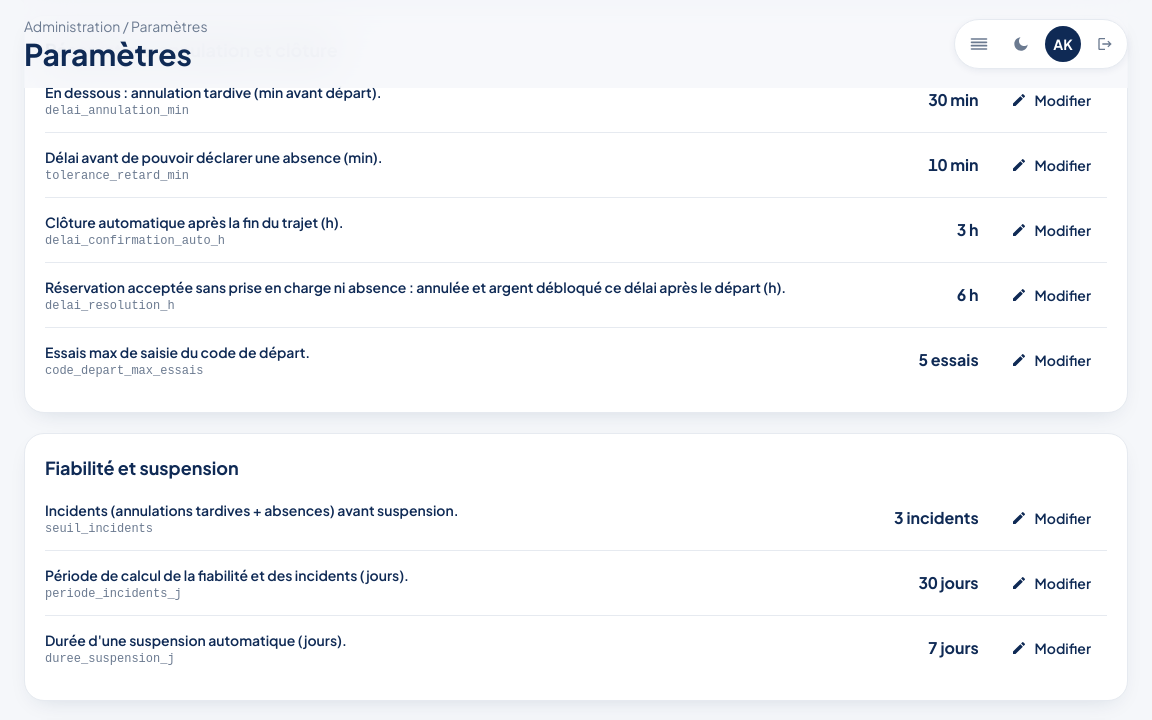
Test: paramètres › exige un entier pour un paramètre entier
(page scrolled)
Click the button "Modifier" in the row of "Essais max de saisie du code de départ.".
click(1051, 360)  # box x1=995 y1=340 x2=1107 y2=380
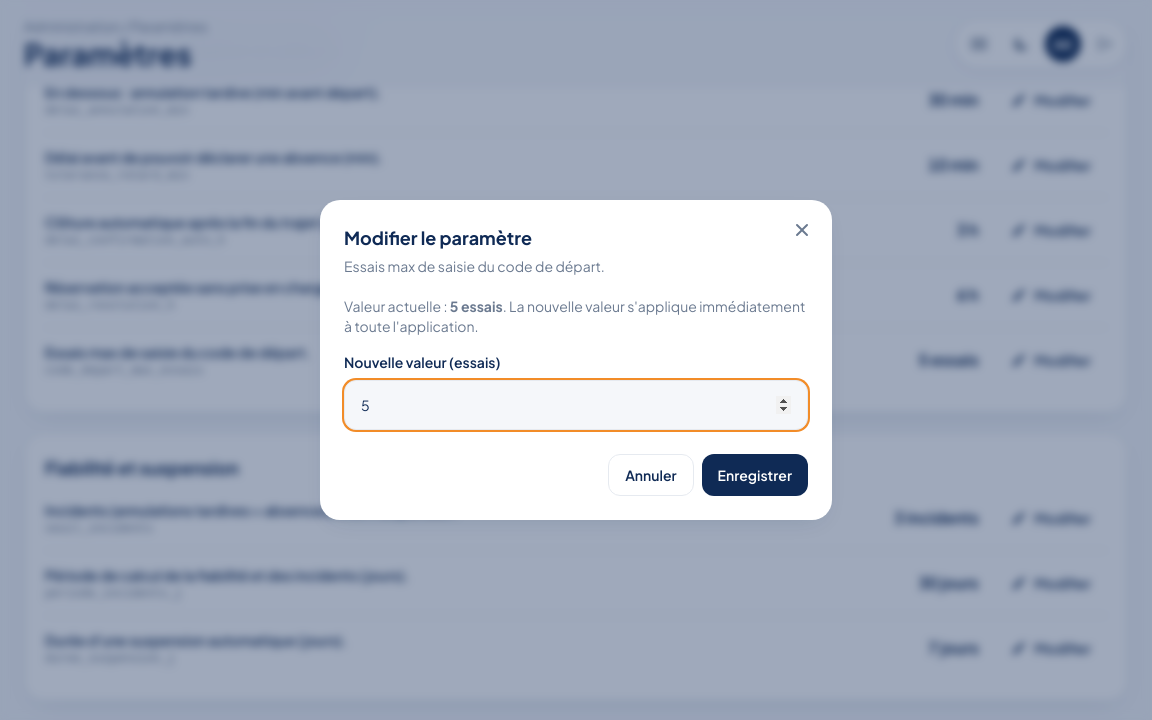
Replace the text in the number field labelled "Nouvelle valeur (essais)" with "2.5" at (576,405), box x1=361 y1=381 x2=791 y2=429
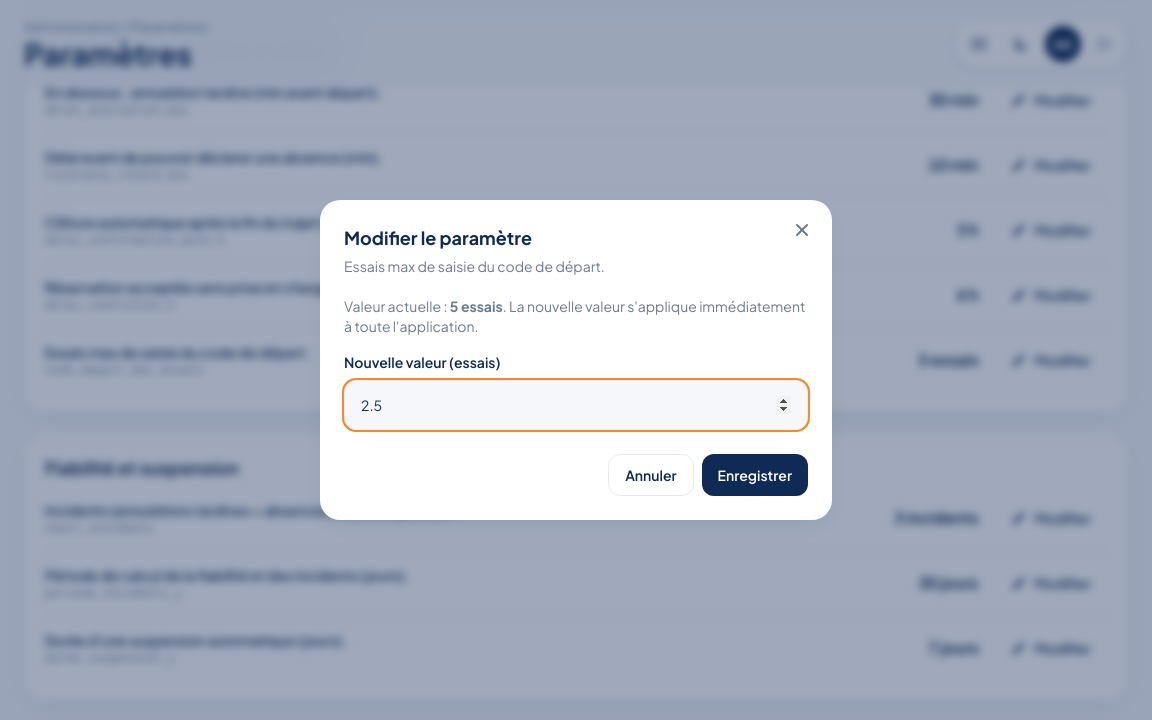
Click the button "Enregistrer".
click(755, 475)  # box x1=702 y1=454 x2=808 y2=496
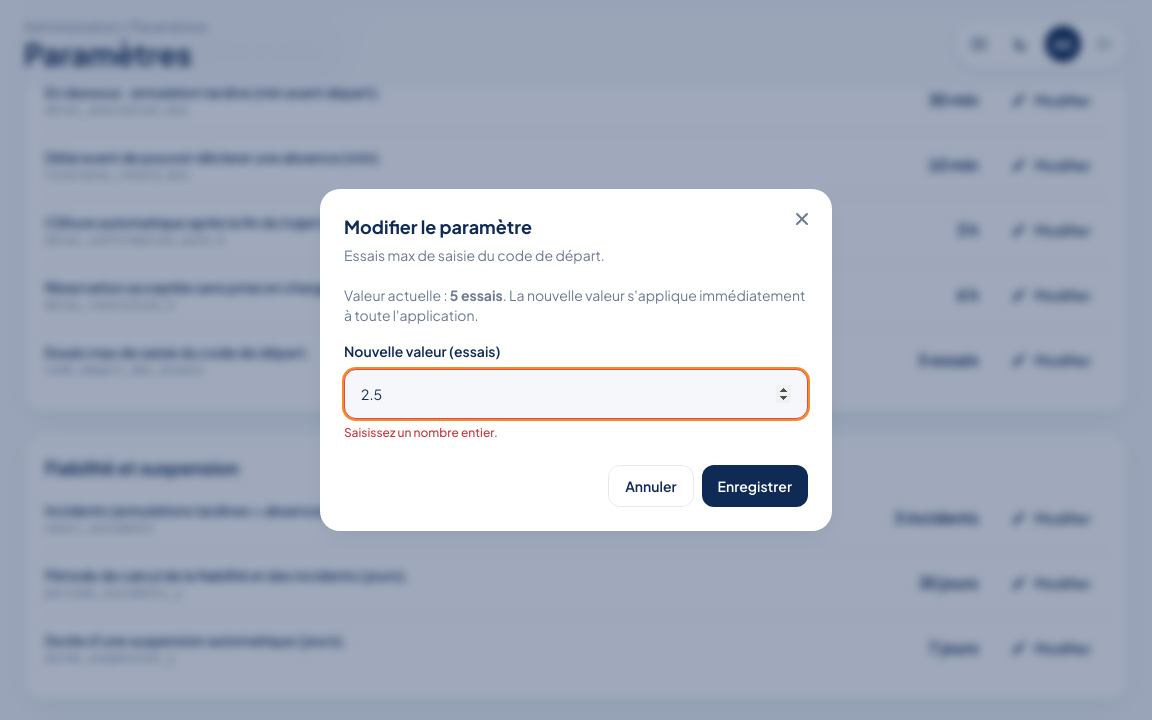
Expected: the text "Saisissez un nombre entier." is shown, x1=344 y1=425 x2=498 y2=440
